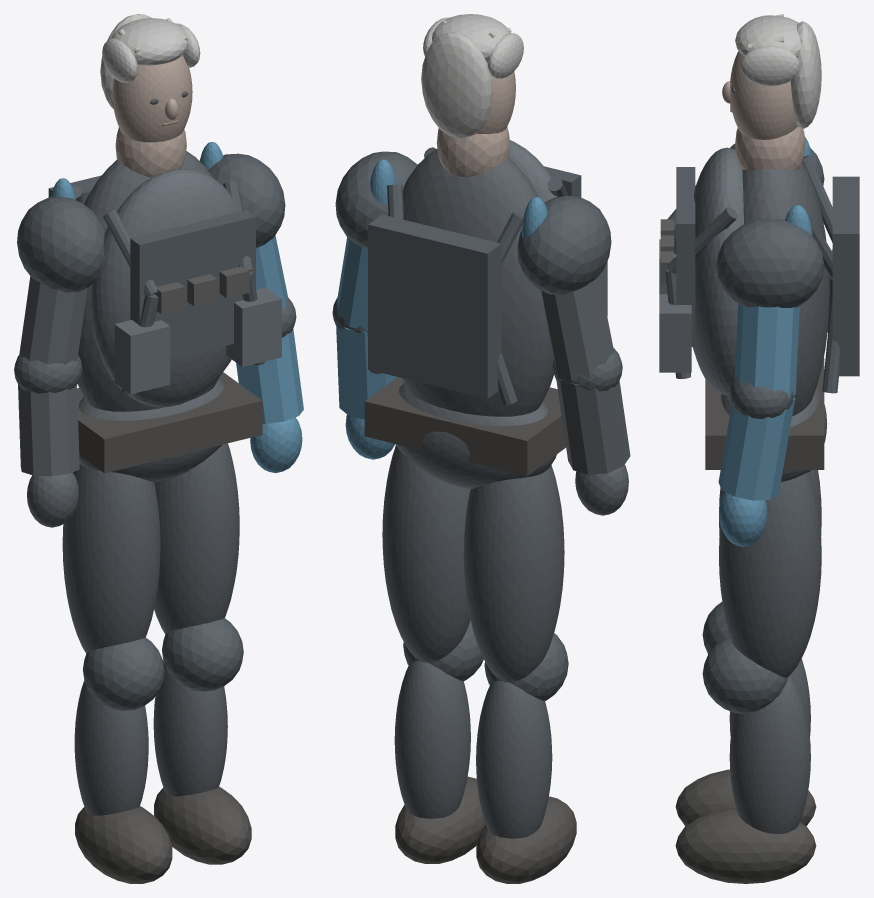
File: ja_victorn_prototype.glb
3 views of the same model, side by side, from view 1: azimuth 30°, elevation 25°; view 2: azimuth 150°, elevation 25°; view 3: azimuth 270°, elevation 25° (orthographic). The views are drawn at different scales.
Parts seen in each view (by area): view 1: thigh_-1, thigh_1, vest, vest_plate, sleeve_-1, belt, shin_-1, shin_1, shoulder_-1, boot_-1, boot_1, torso_suit (+20 smaller); view 2: back_panel, thigh_-1, torso_suit, thigh_1, sleeve_-1, shin_1, shin_-1, belt, shoulder_-1, hair_back, sleeve_1, hips (+16 smaller); view 3: thigh_1, sleeve_1, shin_1, vest, shoulder_1, boot_1, torso_suit, back_panel, knee_1, belt, head, vest_plate (+16 smaller).
Boxes of the visible parts, x1,y1,x2,y2 form: thigh_-1: [62, 464, 160, 653]; thigh_1: [154, 443, 239, 634]; vest: [90, 168, 234, 407]; vest_plate: [130, 210, 255, 359]; sleeve_-1: [18, 276, 87, 476]; belt: [77, 372, 262, 473]; shin_-1: [74, 681, 148, 815]; shin_1: [153, 661, 227, 796]; shoulder_-1: [17, 197, 105, 292]; boot_-1: [75, 806, 172, 883]; boot_1: [154, 787, 251, 864]; torso_suit: [77, 151, 219, 411]; back_panel: [368, 214, 501, 398]; thigh_-1: [463, 465, 564, 681]; torso_suit: [402, 149, 553, 416]; thigh_1: [382, 445, 470, 662]; sleeve_-1: [541, 275, 630, 474]; shin_1: [394, 660, 470, 818]; shin_-1: [476, 680, 552, 838]; belt: [364, 377, 565, 475]; shoulder_-1: [517, 196, 611, 294]; hair_back: [421, 32, 492, 138]; sleeve_1: [336, 237, 397, 419]; hips: [395, 383, 556, 488]; thigh_1: [719, 472, 821, 677]; sleeve_1: [718, 304, 799, 500]; shin_1: [729, 675, 810, 833]; vest: [692, 147, 743, 395]; shoulder_1: [716, 218, 824, 307]; boot_1: [675, 808, 816, 883]; torso_suit: [727, 163, 829, 415]; back_panel: [832, 176, 859, 376]; knee_1: [702, 636, 788, 714]; belt: [705, 358, 824, 469]; head: [730, 51, 797, 139]; vest_plate: [676, 167, 695, 346].
Size of the model in its own units: 0.5924 by 1.71 by 0.37.
